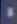Squash-Ball: (1, 0, 17, 24)
